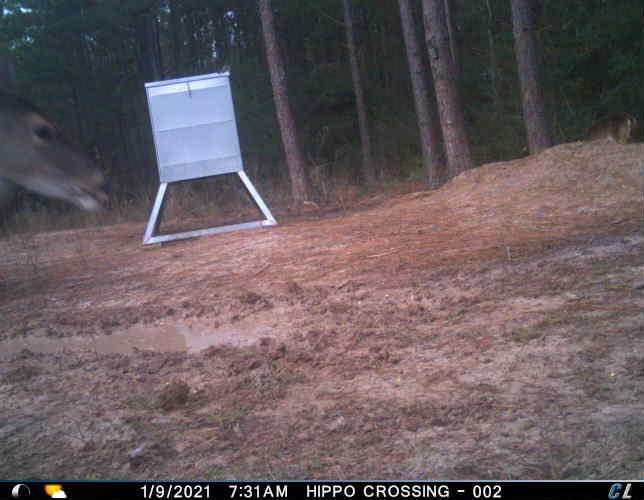Deer: (0, 48, 118, 253)
